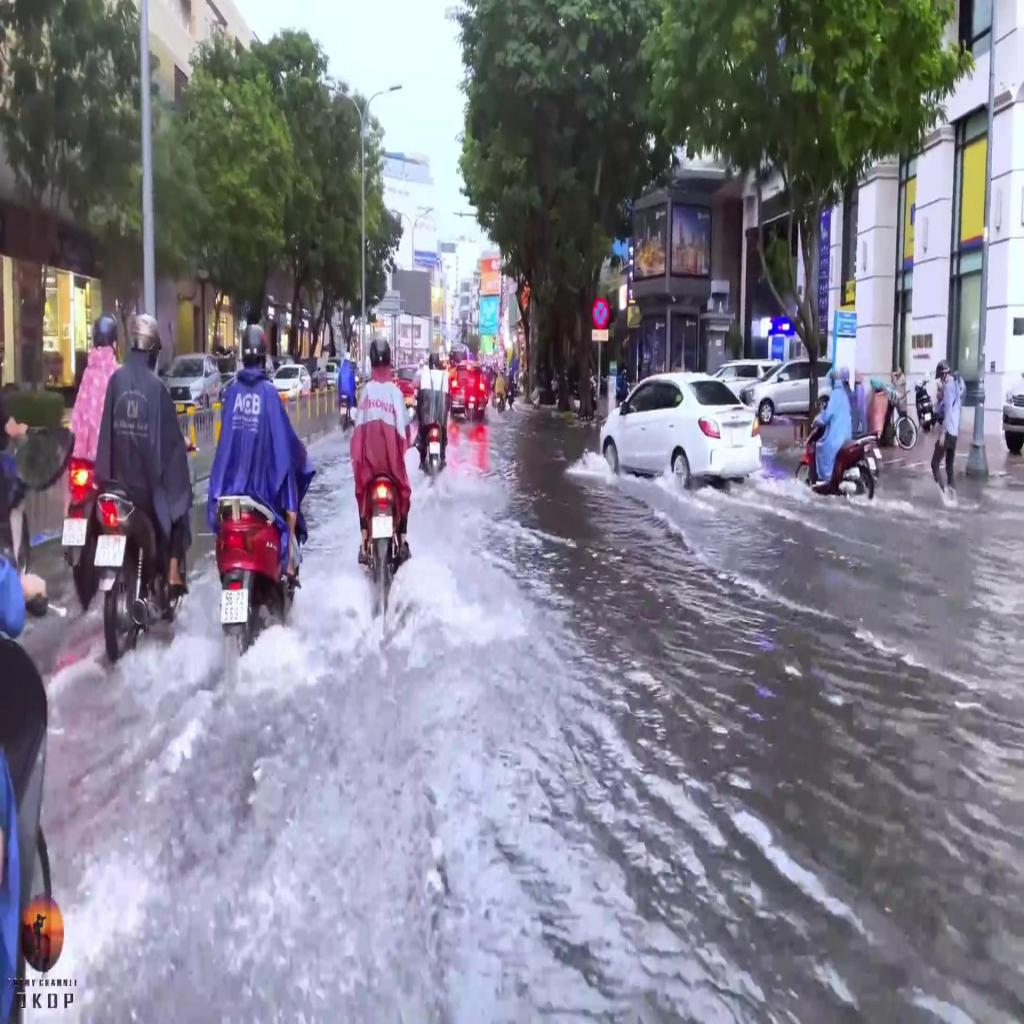cam_dung_xe_va_do_xe: (592, 300, 610, 327)
khac: (591, 329, 608, 340)
